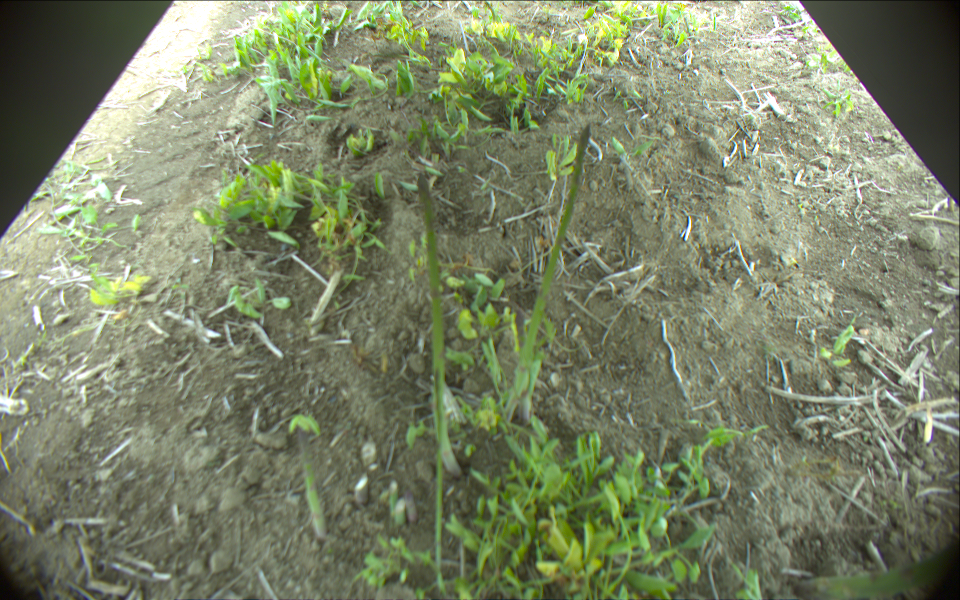aspa: (500, 124, 593, 422), (415, 174, 464, 479), (433, 368, 453, 600), (294, 420, 331, 545)
